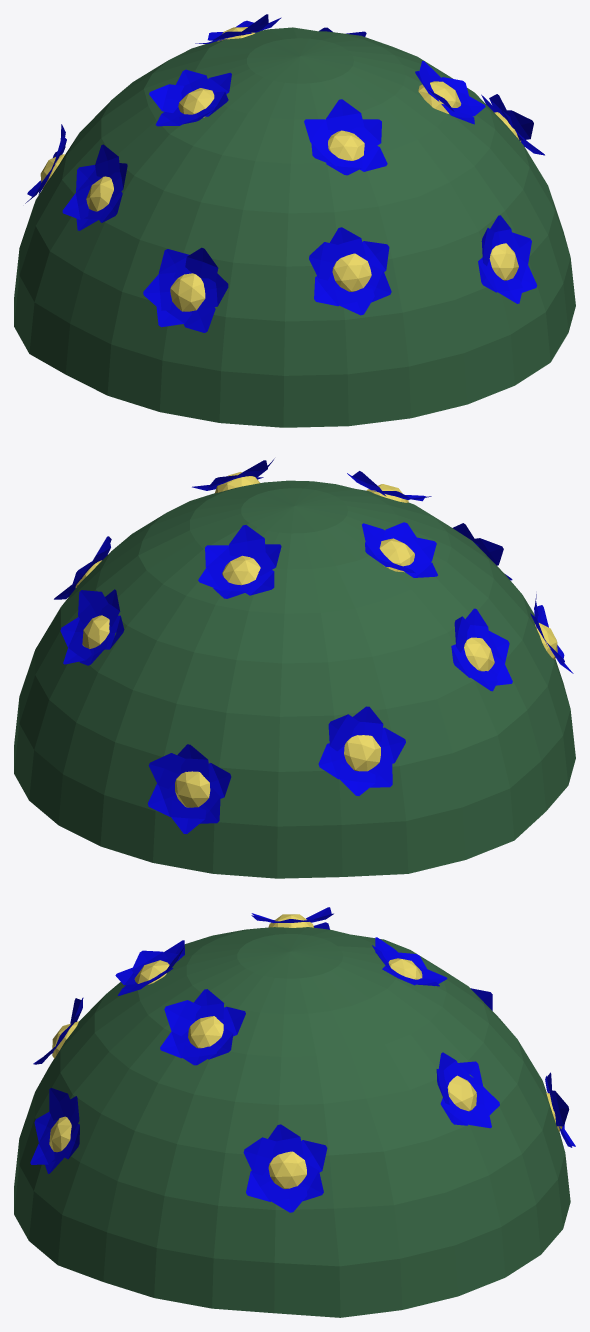
The model's file is arbusto4.glb.
The picture shows the model from 3 angles, top to bottom: view 1: azimuth 30°, elevation 25°; view 2: azimuth 150°, elevation 25°; view 3: azimuth 270°, elevation 25°; orthographic projection.
Visible parts, largest first — view 1: Esfera, Esfera geodésica.002, Esfera geodésica.010, Plano.070, Esfera geodésica.011, Plano.065, Esfera geodésica.008, Plano.016, Plano.017, Esfera geodésica.001, Plano.015, Plano.064 (+16 smaller); view 2: Esfera, Esfera geodésica.007, Esfera geodésica.004, Plano.058, Plano.028, Esfera geodésica.009, Esfera geodésica.006, Plano.029, Plano.047, Plano.034, Plano.045, Plano.046 (+13 smaller); view 3: Esfera, Esfera geodésica.003, Esfera geodésica.001, Plano.010, Plano.022, Esfera geodésica.005, Plano.023, Plano.021, Plano.009, Plano.018, Esfera geodésica.008, Plano.020 (+3 smaller).
Boxes of the visible parts, bbox=[...] form: Esfera: bbox=[14, 27, 575, 427]; Esfera geodésica.002: bbox=[332, 253, 371, 291]; Esfera geodésica.010: bbox=[170, 273, 205, 311]; Plano.070: bbox=[326, 99, 364, 131]; Esfera geodésica.011: bbox=[328, 130, 364, 160]; Plano.065: bbox=[143, 272, 176, 310]; Esfera geodésica.008: bbox=[489, 243, 518, 280]; Plano.016: bbox=[309, 242, 337, 280]; Plano.017: bbox=[335, 288, 374, 315]; Esfera geodésica.001: bbox=[418, 81, 461, 113]; Plano.015: bbox=[330, 227, 365, 262]; Plano.064: bbox=[185, 247, 218, 282]; Esfera: bbox=[14, 480, 575, 878]; Esfera geodésica.007: bbox=[344, 735, 380, 771]; Esfera geodésica.004: bbox=[175, 771, 210, 807]; Plano.058: bbox=[229, 525, 265, 556]; Plano.028: bbox=[148, 753, 185, 788]; Esfera geodésica.009: bbox=[222, 555, 260, 585]; Esfera geodésica.006: bbox=[464, 637, 494, 671]; Plano.029: bbox=[171, 800, 206, 833]; Plano.047: bbox=[339, 762, 375, 795]; Plano.034: bbox=[78, 590, 108, 624]; Plano.045: bbox=[351, 706, 383, 741]; Plano.046: bbox=[328, 714, 359, 751]; Esfera: bbox=[14, 927, 570, 1317]; Esfera geodésica.003: bbox=[268, 1151, 306, 1188]; Esfera geodésica.001: bbox=[188, 1016, 223, 1048]; Plano.010: bbox=[164, 1000, 201, 1036]; Plano.022: bbox=[243, 1137, 276, 1175]; Esfera geodésica.005: bbox=[447, 1075, 476, 1111]; Plano.023: bbox=[269, 1184, 307, 1212]; Plano.021: bbox=[268, 1124, 303, 1157]; Plano.009: bbox=[194, 989, 224, 1021]; Plano.018: bbox=[246, 1168, 274, 1201]; Esfera geodésica.008: bbox=[49, 1116, 71, 1152]; Plano.020: bbox=[299, 1140, 327, 1172].
Size of the model in its own units: 1.96 by 1.02 by 1.98.
